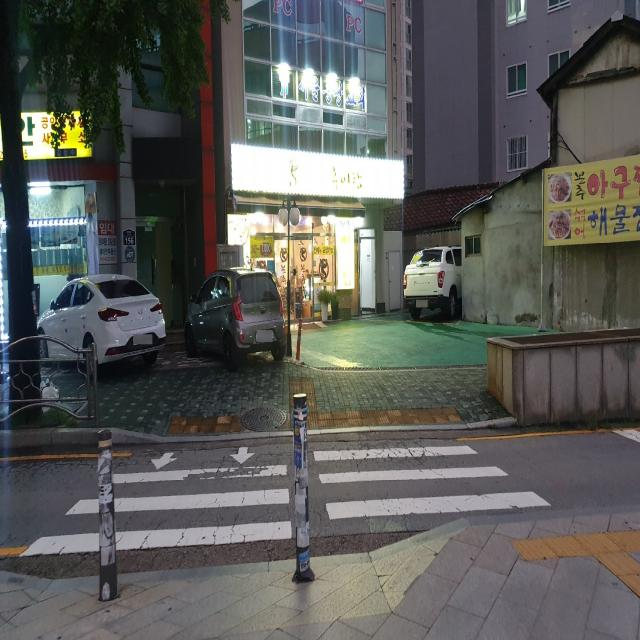횡단보도: (16, 442, 554, 561)
